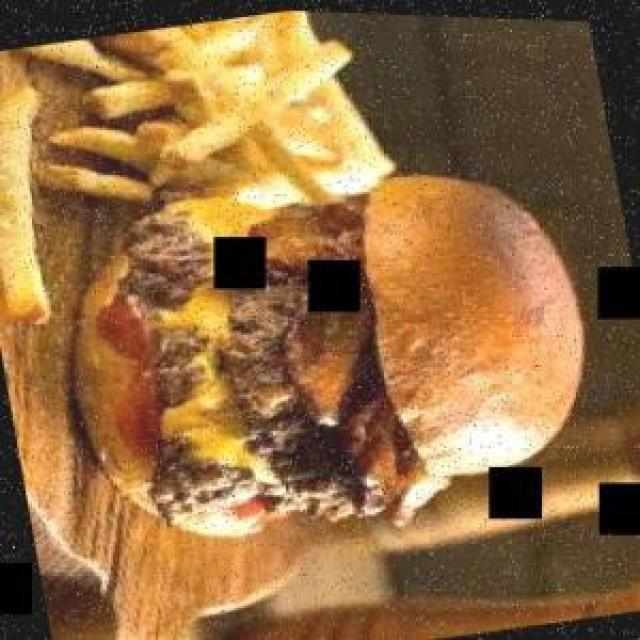Burger: (72, 172, 584, 541)
